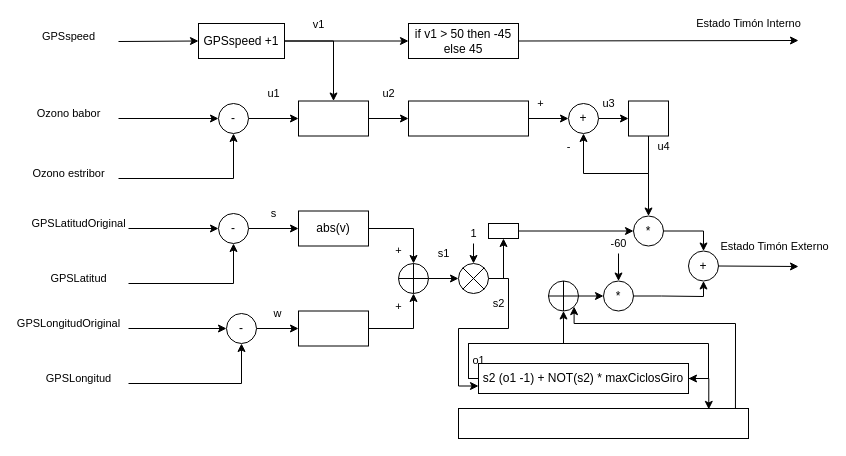
Image size: 846x456. Some labels were removed from this diagram. Each missing label, with the centre of its shape:
abs(w): pixel 333 328
max(85, min(-85, u2)): pixel 468 118
NOT: pixel 503 230
o1 < - maxCiclosGiro AND o1 > -2 * maxCiclosGiro AND FactorAjustable: pixel 603 423
u1/10 * v1: pixel 333 118
u3/2: pixel 648 118
